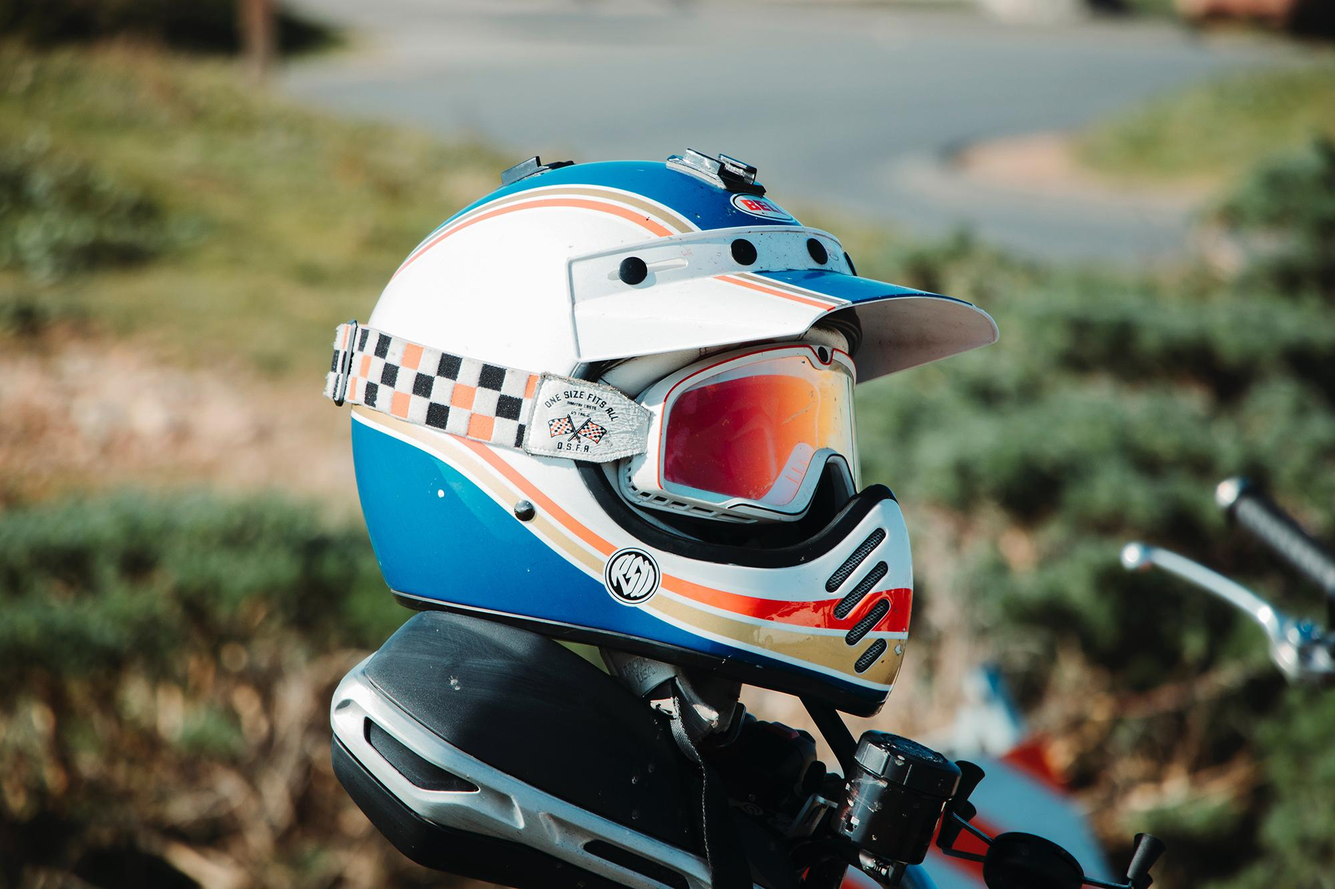helmet: (325, 143, 1004, 721)
